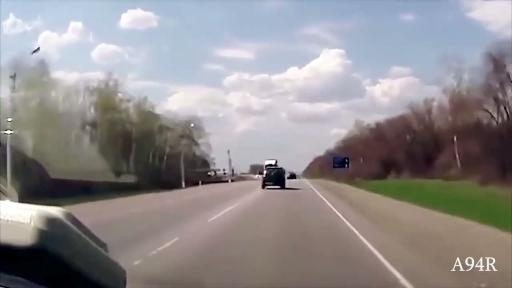Accident-fire-smoke: (0, 40, 158, 219)
